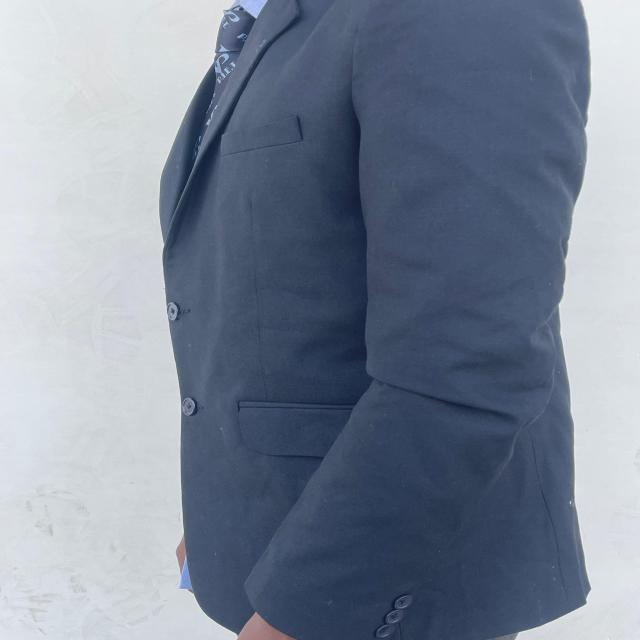Tie: (203, 5, 255, 130)
uniform: (158, 0, 593, 639)
